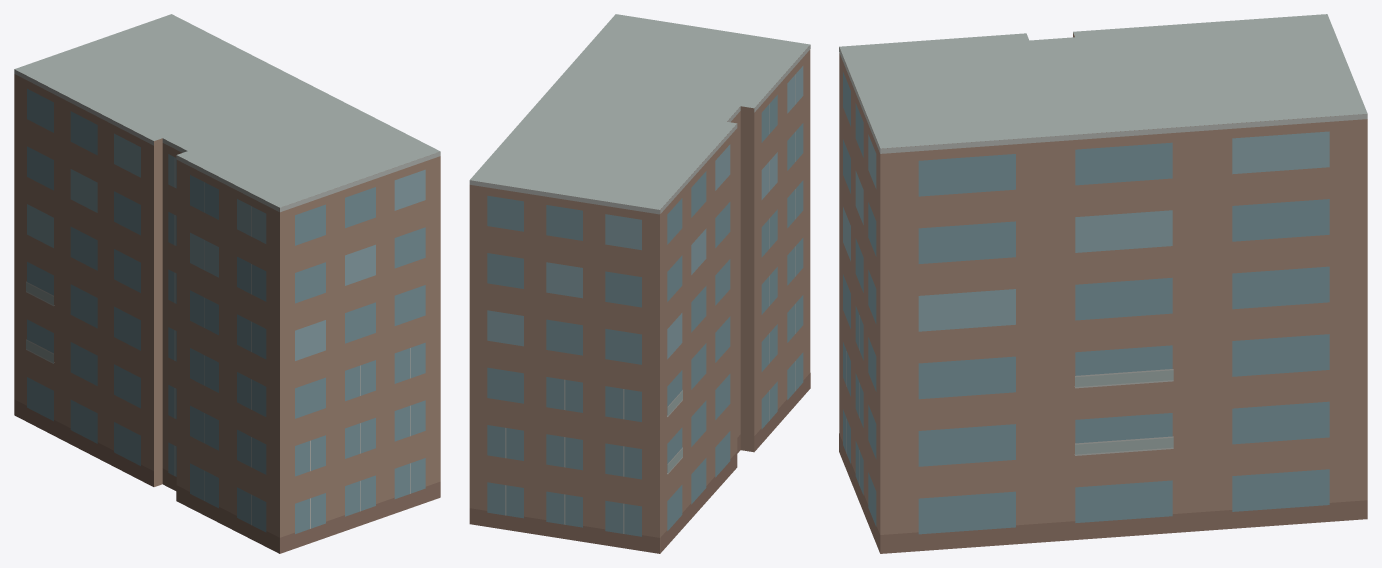
File: survey-upis-32576343.glb
The picture shows the model from 3 angles, left to right: view 1: azimuth 30°, elevation 25°; view 2: azimuth 150°, elevation 25°; view 3: azimuth 270°, elevation 25°; orthographic projection. The views are drawn at different scales.
Visible parts, largest first — view 1: survey-upis-32576343.tmp; view 2: survey-upis-32576343.tmp; view 3: survey-upis-32576343.tmp.
Part boxes in pixels (x1,y1,x2,y2): survey-upis-32576343.tmp: (14, 14, 440, 553); survey-upis-32576343.tmp: (469, 14, 810, 553); survey-upis-32576343.tmp: (839, 14, 1367, 553).
Size of the model in its own units: 13.19 by 18.5 by 21.87.
